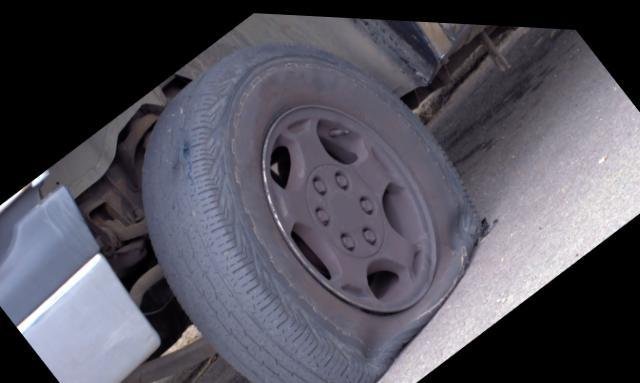tire flat: (142, 38, 481, 383)
